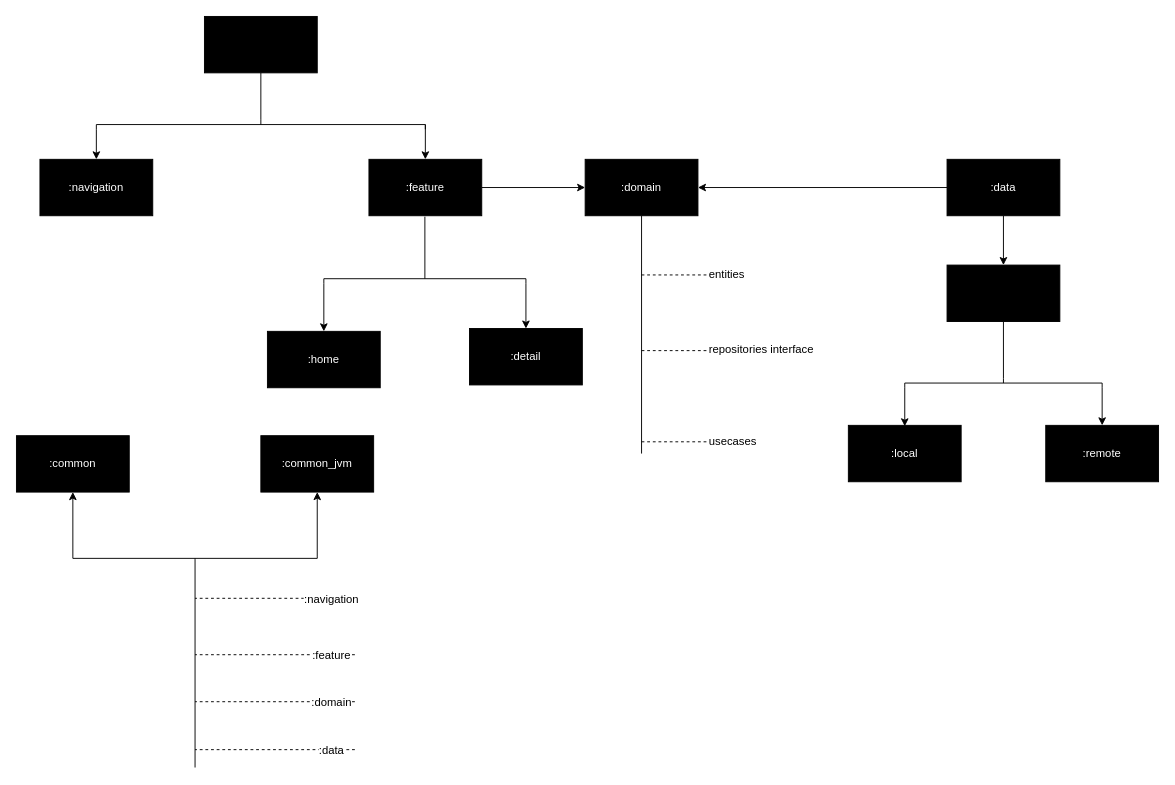
This 1175x785 diagram has some shape labels left out. Each missing label, with the box of its shape:
:repository: (946, 264, 1060, 321)
App: (204, 16, 317, 73)
